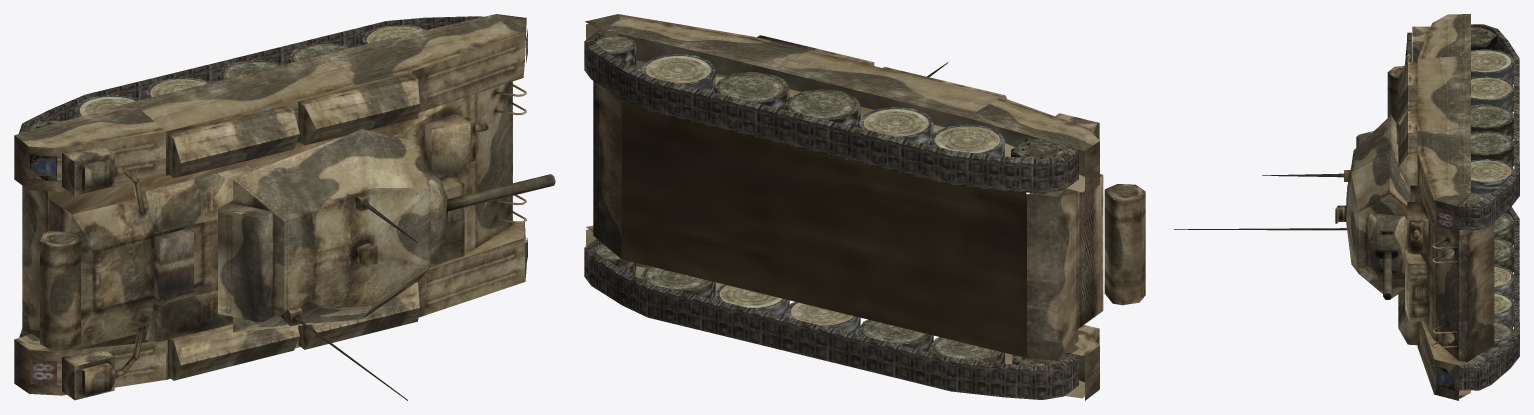
File: vehicle_crusader2_bitgobbler.glb
3 views of the same model, side by side, from view 1: azimuth 30°, elevation 25°; view 2: azimuth 150°, elevation 25°; view 3: azimuth 270°, elevation 25° (orthographic). The views are drawn at different scales.
Size of the model in its own units: 280 by 134 by 207.
6 materials, 6 textured.
